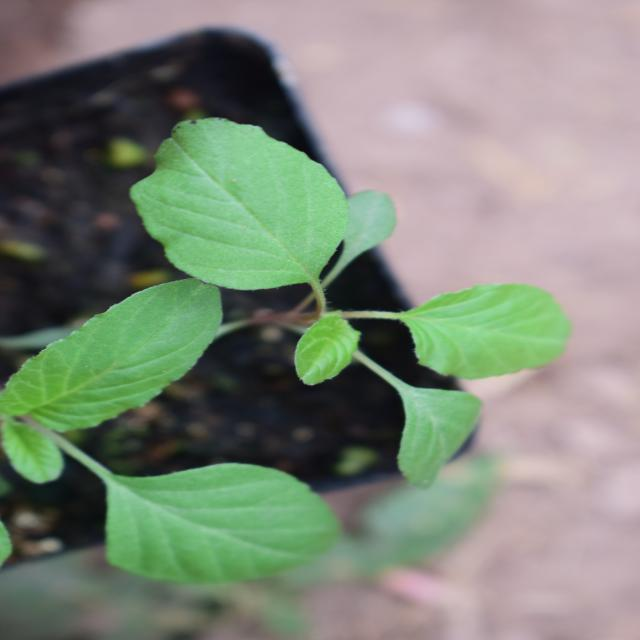pigweed: (105, 34, 457, 492)
